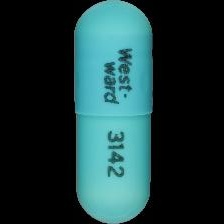63629-1531: (0, 0, 224, 224)
